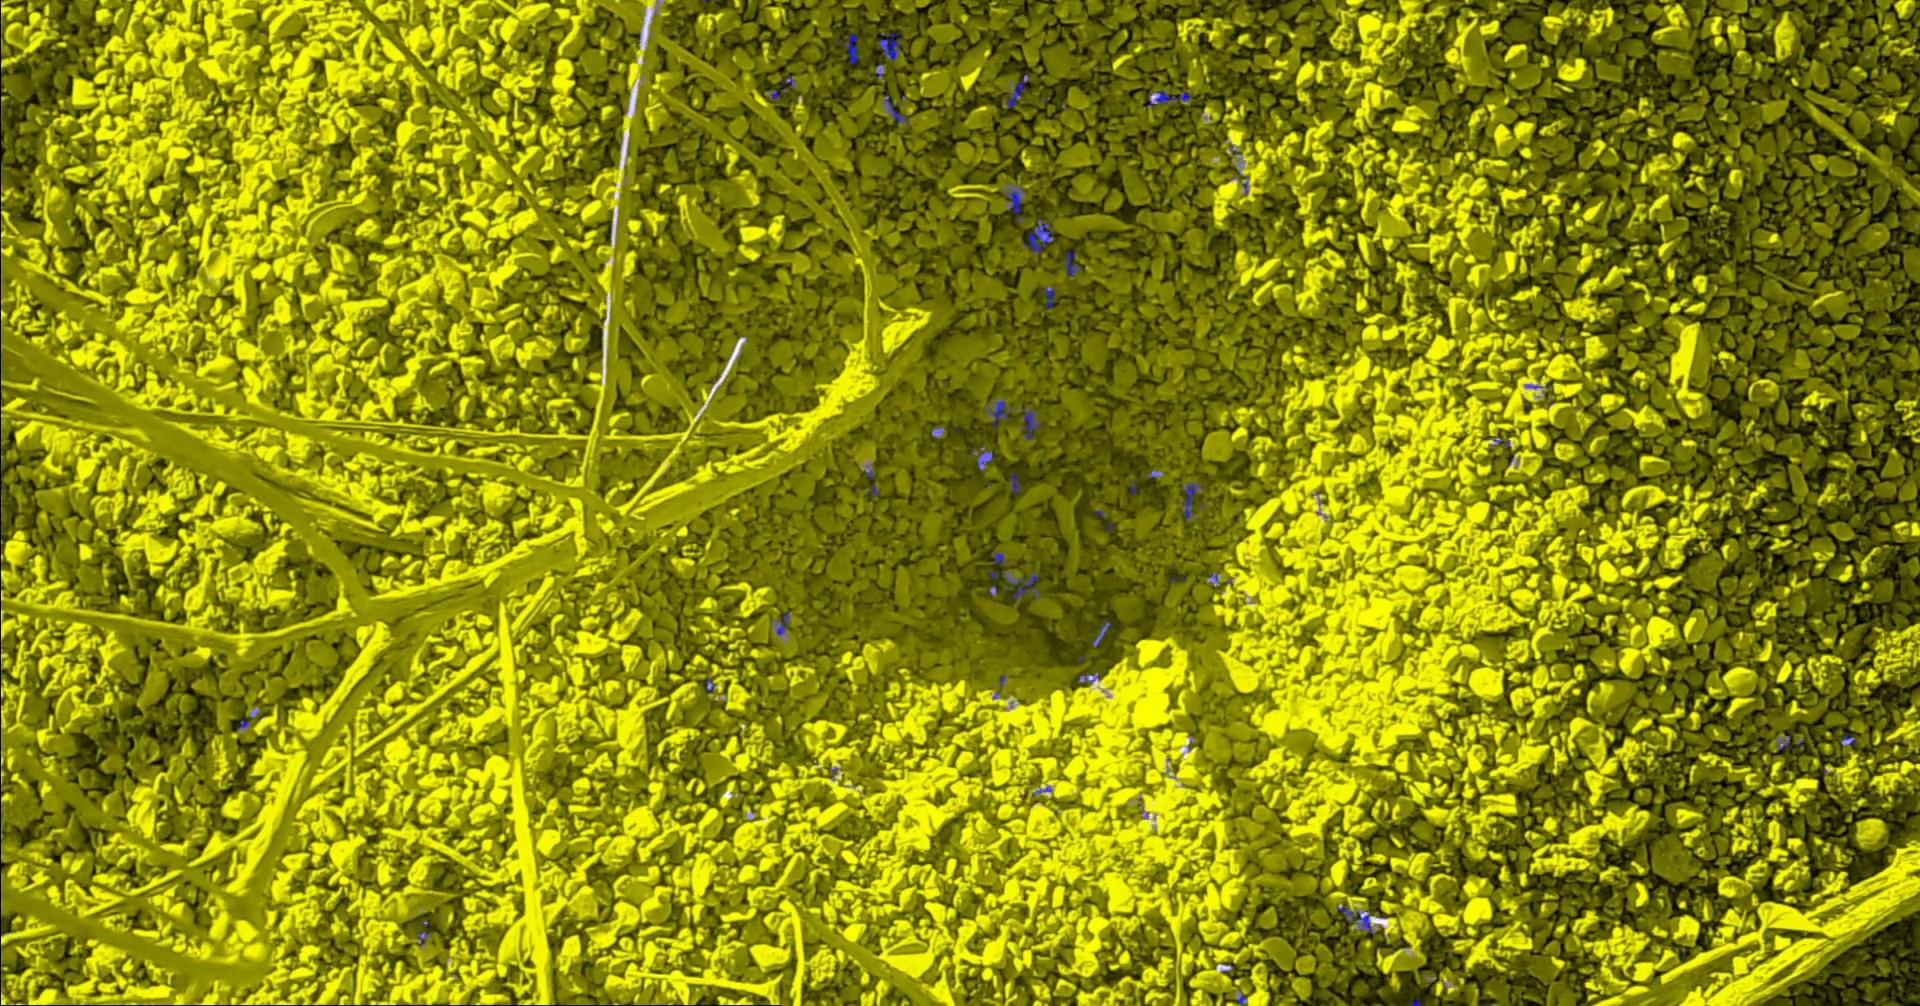ant: (1004, 572, 1041, 605), (1337, 904, 1377, 934), (1025, 218, 1057, 253), (1145, 89, 1192, 108), (1007, 72, 1030, 107), (1006, 185, 1026, 222), (879, 32, 905, 60), (987, 399, 1013, 427), (886, 94, 910, 124), (1183, 481, 1201, 520), (1021, 406, 1041, 439), (771, 75, 796, 99), (971, 445, 994, 470), (1092, 619, 1112, 647), (844, 33, 860, 64), (1065, 250, 1082, 276), (777, 611, 791, 634), (1011, 473, 1023, 493), (1045, 287, 1057, 307), (993, 551, 1010, 565), (1082, 672, 1101, 683), (990, 570, 999, 594), (418, 931, 433, 945), (1841, 734, 1857, 746), (1777, 739, 1793, 749), (706, 677, 715, 694)
